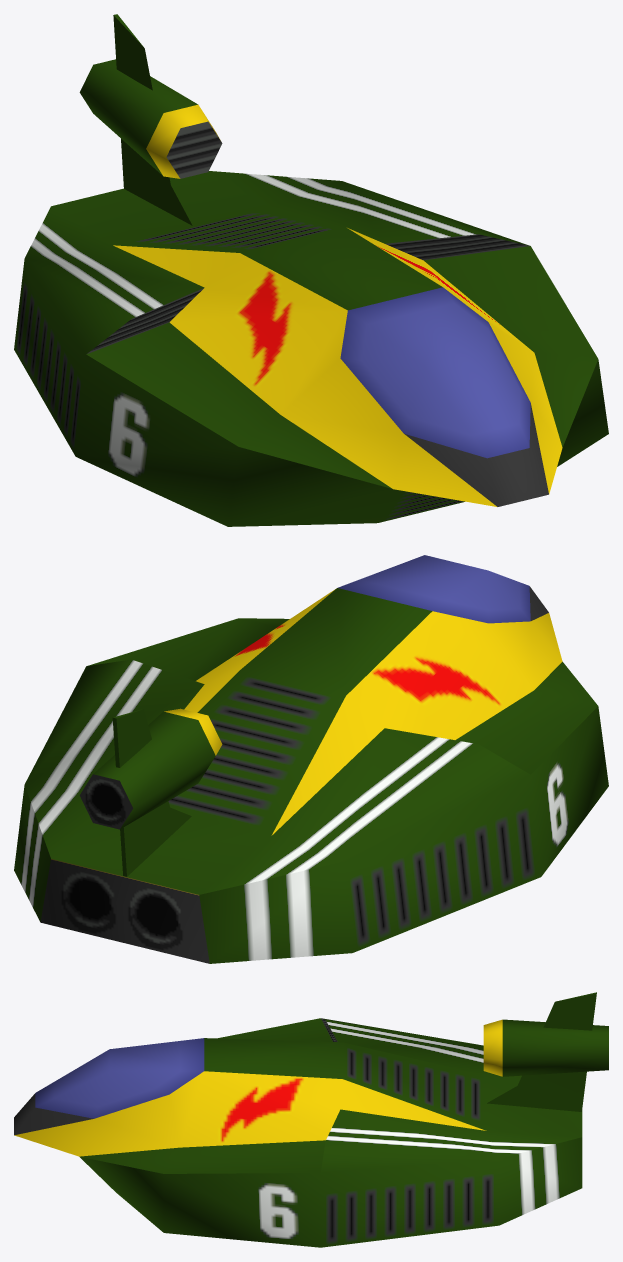
3 views of the same model, one above another, from view 1: azimuth 30°, elevation 25°; view 2: azimuth 150°, elevation 25°; view 3: azimuth 270°, elevation 25° (orthographic). The views are drawn at different scales.
Parts seen in each view (by area): view 1: Joint_0_Object_0; view 2: Joint_0_Object_0; view 3: Joint_0_Object_0.
Part boxes in pixels (x1=…): Joint_0_Object_0: x1=14, y1=14, x2=608, y2=526; Joint_0_Object_0: x1=14, y1=555, x2=608, y2=963; Joint_0_Object_0: x1=14, y1=992, x2=608, y2=1247.
Size of the model in its own units: 37.12 by 18.56 by 57.58.
Materials: 1 (1 with a texture image).
